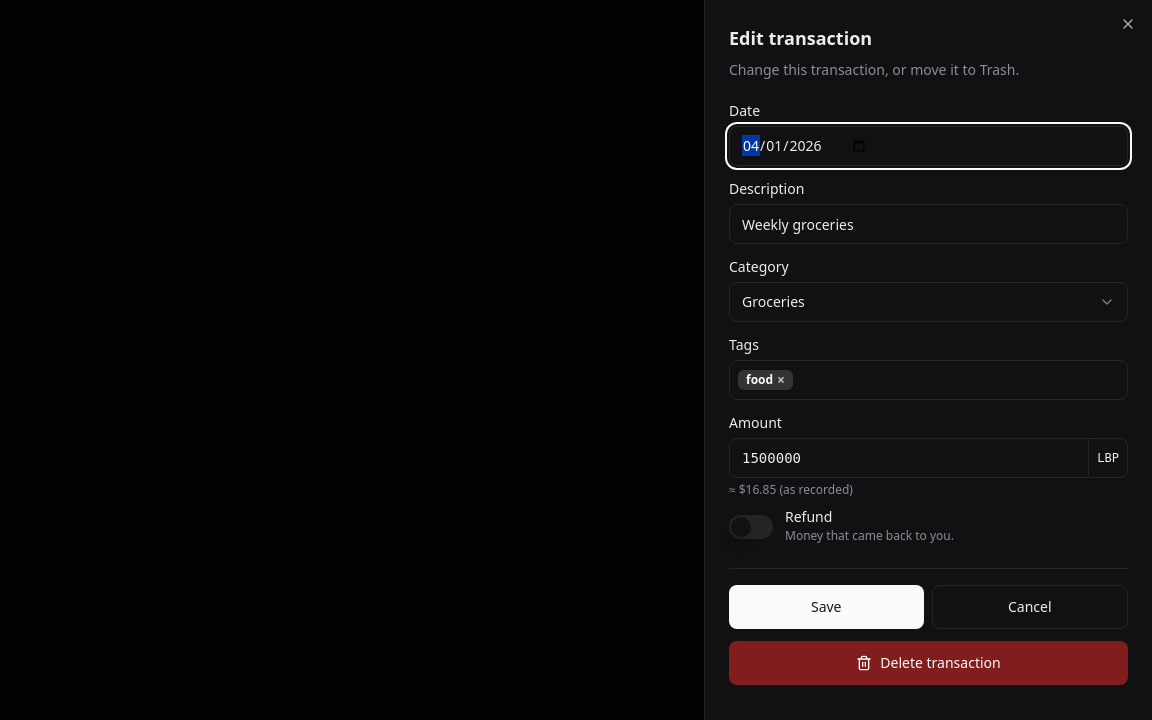
Test: TransactionEditSheet — foreign money is not re-priced › _PreviewFollowsTheSaveOnceTheAmountIsEdited: a corrected amount re-prices at today s rate
Check: the button with aria-label "currency: lbp" is shown, box left=1089, top=438, right=1128, bottom=478
Step 1. Replace the text in the number field with "1600000" → (909, 458), box left=729, top=438, right=1089, bottom=478
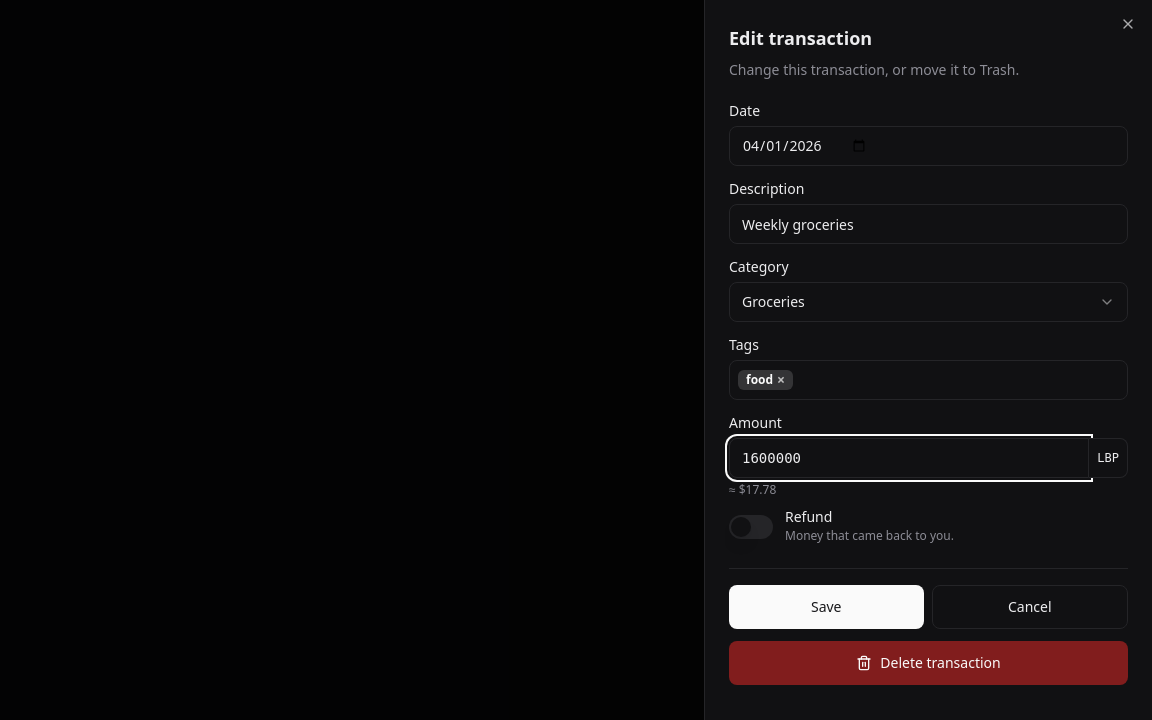
Check: the text "as recorded" is not shown
Check: the text "≈ $17.78" is shown, box left=729, top=481, right=776, bottom=498
